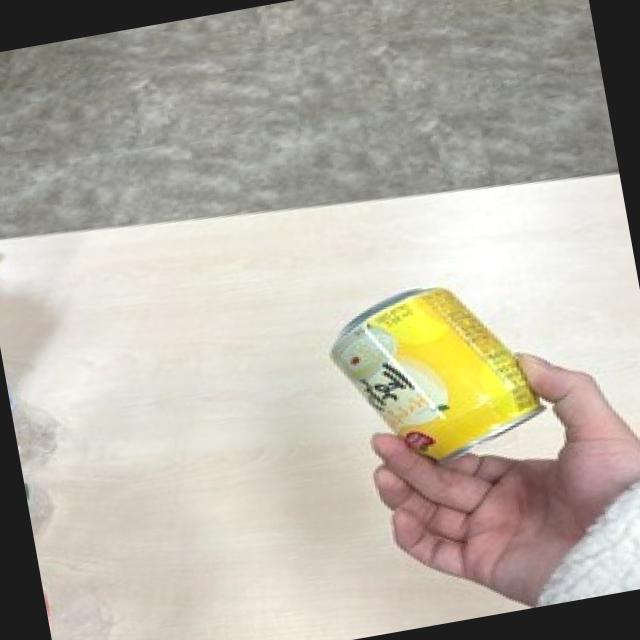can: (316, 264, 556, 487)
